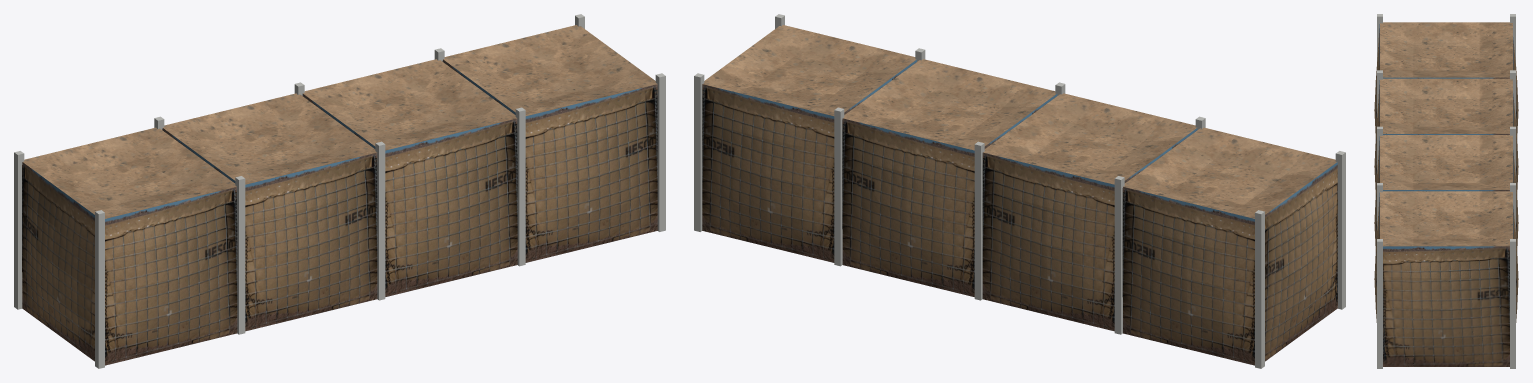
Rendered from hesco_wall.glb.
3 views of the same model, side by side, from view 1: azimuth 30°, elevation 25°; view 2: azimuth 150°, elevation 25°; view 3: azimuth 270°, elevation 25° (orthographic). The views are drawn at different scales.
Visible parts, largest first — view 1: hesco_0, hesco_1, hesco_2, hesco_3, post, post.002, post.006, post.010, post.014, post.001; view 2: hesco_0, hesco_1, hesco_2, hesco_3, post.001, post.007, post.011, post.003, post.015, post; view 3: hesco_3, hesco_1, hesco_0, hesco_2, post.014, post.015, post.007, post.003, post.001, post.011.
Boxes of the visible parts, box(x1,y1,x2,y2) form: hesco_0: box(22, 127, 237, 365); hesco_1: box(162, 93, 377, 331); hesco_2: box(302, 59, 517, 296); hesco_3: box(442, 25, 657, 262); post: box(95, 210, 104, 368); post.002: box(235, 176, 245, 334); post.006: box(375, 141, 385, 300); post.010: box(515, 107, 525, 266); post.014: box(655, 73, 665, 231); post.001: box(14, 151, 24, 309); hesco_0: box(1122, 127, 1337, 365); hesco_1: box(982, 93, 1197, 331); hesco_2: box(842, 59, 1057, 296); hesco_3: box(702, 25, 916, 262); post.001: box(1255, 210, 1264, 368); post.007: box(974, 141, 984, 300); post.011: box(834, 107, 844, 266); post.003: box(1114, 176, 1124, 334); post.015: box(694, 73, 704, 231); post: box(1335, 151, 1345, 309); hesco_3: box(1374, 191, 1518, 366); hesco_1: box(1374, 78, 1518, 192); hesco_0: box(1374, 22, 1518, 135); hesco_2: box(1374, 135, 1518, 248); post.014: box(1377, 239, 1382, 368); post.015: box(1510, 239, 1515, 368); post.007: box(1510, 126, 1515, 175); post.003: box(1510, 70, 1515, 118); post.001: box(1510, 14, 1515, 62); post.011: box(1510, 183, 1515, 231).
Size of the model in its own units: 4.47 by 1.16 by 1.19.
Materials: 3 (2 with a texture image).
